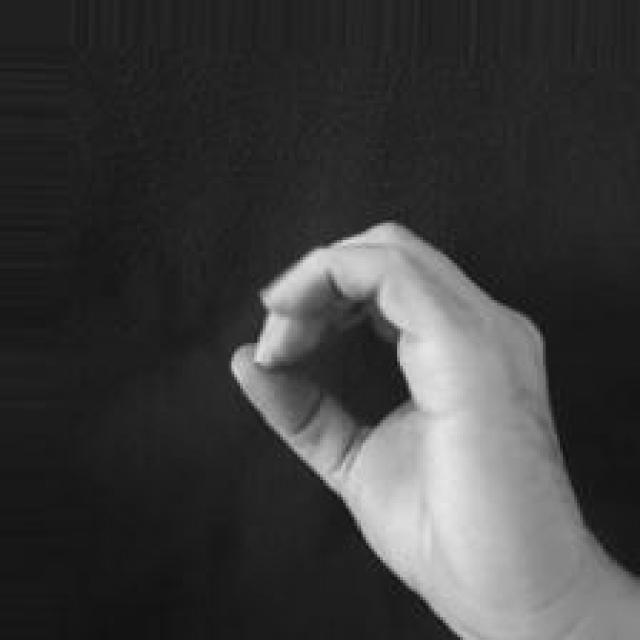O: (223, 202, 640, 640)
